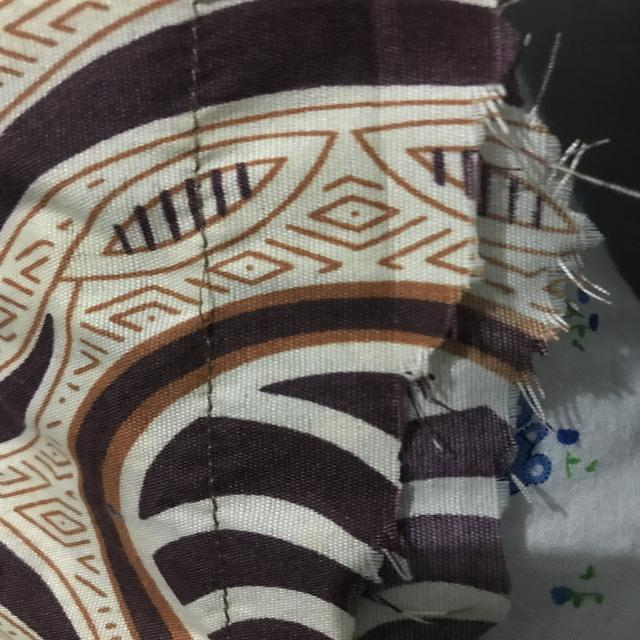skip: (168, 249, 238, 359)
